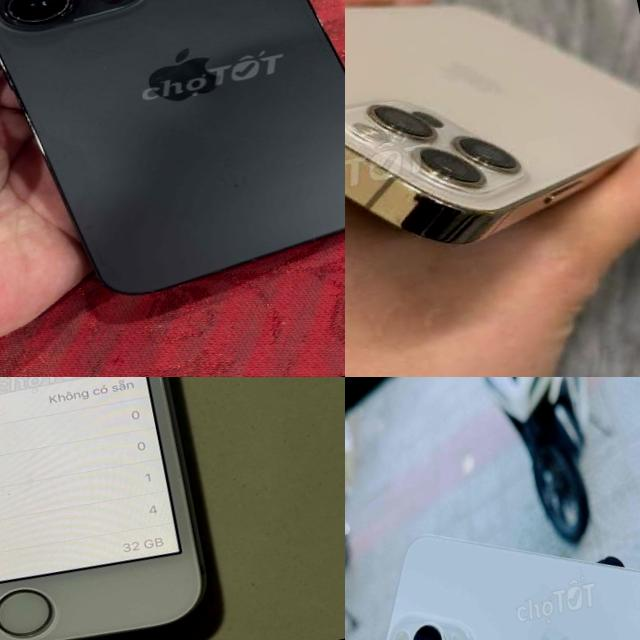gen_12_13: (345, 5, 640, 243)
gen_14: (0, 0, 345, 315)
gen_15: (345, 465, 640, 640)
gen_6: (0, 377, 243, 640)
